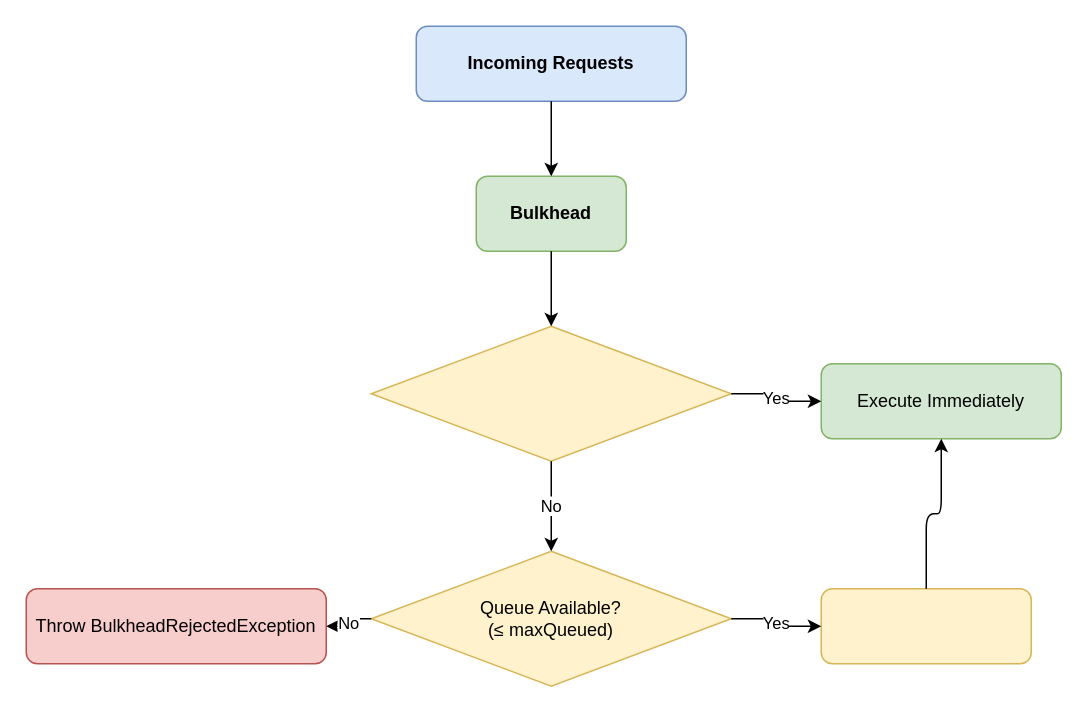
Image size: 1088x713. Some labels were removed from this diagram. The shapes that lost their labels are listed below. From the top down, each one's centre as x and y in pixels, then its label:
pixel 550 393: Active Slot Available? (≤ maxConcurrent)
pixel 925 625: Wait in Queue
